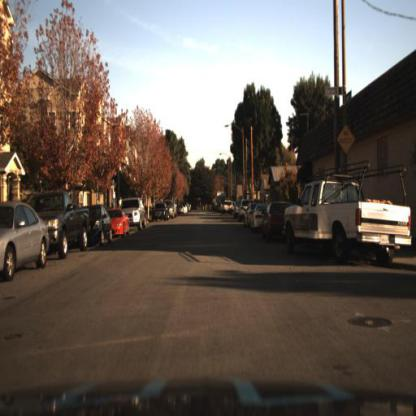car: (281, 172, 414, 266), (30, 190, 91, 260), (1, 203, 50, 281), (49, 190, 93, 265), (263, 194, 287, 241), (88, 202, 112, 247), (126, 197, 150, 233), (110, 207, 134, 238), (152, 199, 168, 226)
